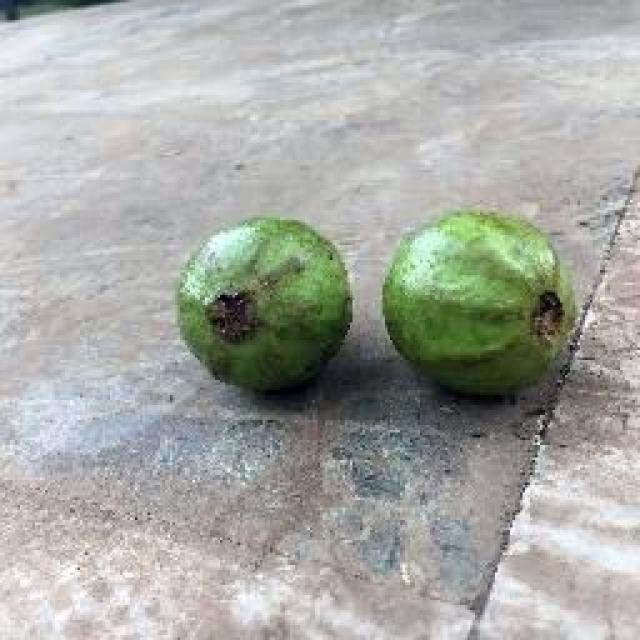Good_Guava: (380, 208, 582, 400)
